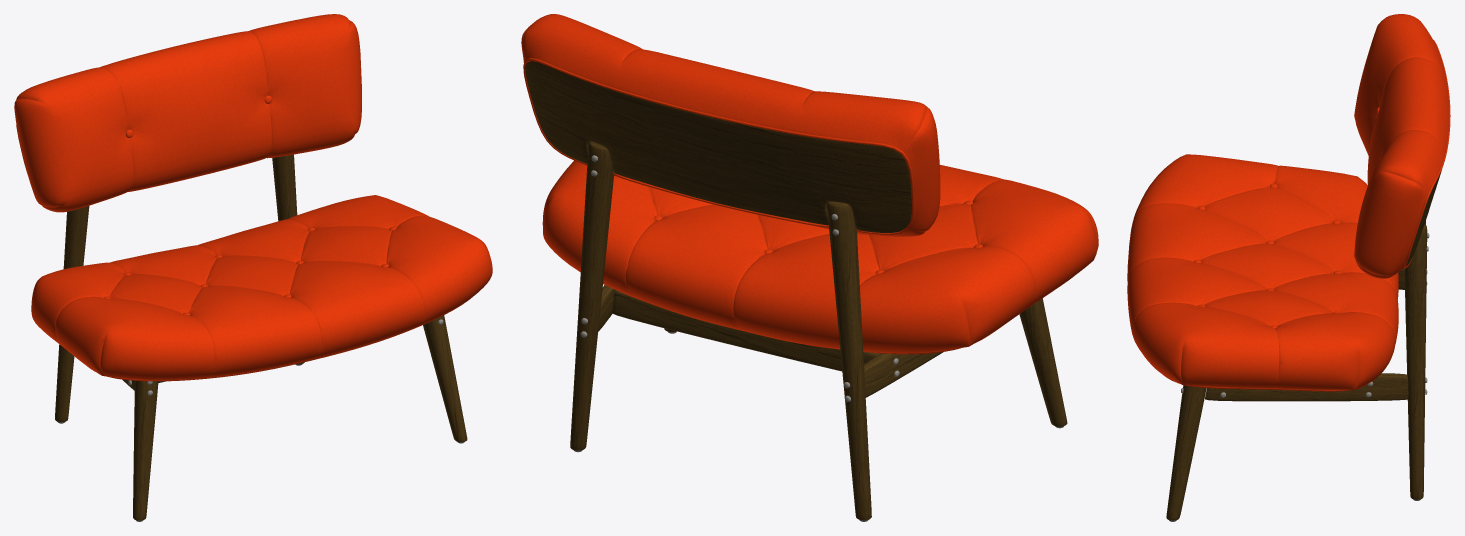
The model's file is poltrona.glb.
3 views of the same model, side by side, from view 1: azimuth 30°, elevation 25°; view 2: azimuth 150°, elevation 25°; view 3: azimuth 270°, elevation 25° (orthographic). The views are drawn at different scales.
Visible parts, largest first — view 1: SheenChair_fabric, SheenChair_wood; view 2: SheenChair_fabric, SheenChair_wood; view 3: SheenChair_fabric, SheenChair_wood.
Boxes of the visible parts, x1,y1,x2,y2 form: SheenChair_fabric: [14, 14, 492, 381]; SheenChair_wood: [55, 154, 467, 520]; SheenChair_fabric: [521, 14, 1098, 354]; SheenChair_wood: [525, 61, 1067, 520]; SheenChair_fabric: [1127, 14, 1450, 391]; SheenChair_wood: [1166, 170, 1441, 520].
Bounding box in the file's own units: 0.8266 × 0.6862 × 0.5703.
Materials: 4 (3 with a texture image).
